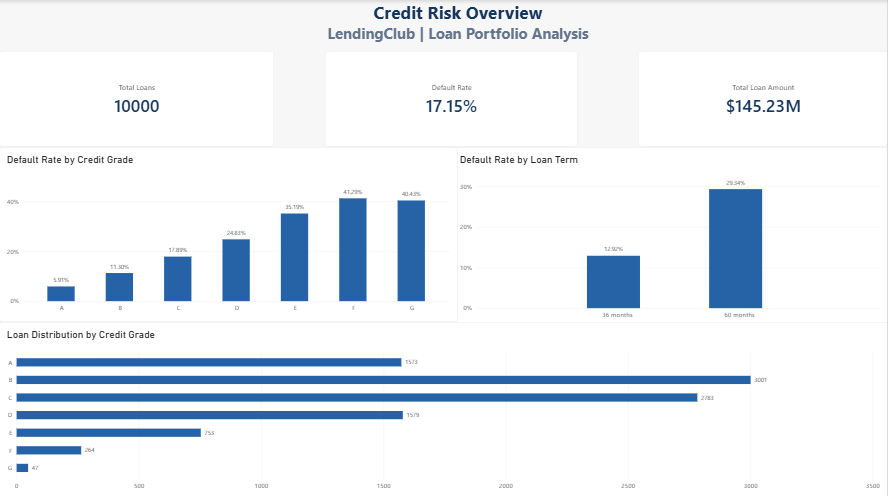

Layout of this report page (visuals, bound fields, positions):
{"tool":"powerbi","page":{"name":"Credit Risk Overview","canvas":[1920,1080],"ordinal":0},"visuals":[{"type":"cardVisual","fields":{"Data":["Analytical_Sample.Total Loans"]},"box":[0,110.2,594,207.4],"z":0},{"type":"cardVisual","fields":{"Data":["Analytical_Sample.Default Rate"]},"box":[704.2,110.2,546.5,207.4],"z":1000},{"type":"cardVisual","fields":{"Data":["Analytical_Sample.Total Loan Amount"]},"box":[1380.2,110.2,540,207.4],"z":2000},{"type":"clusteredColumnChart","title":"Default Rate by Loan Term","fields":{"Category":["Analytical_Sample.term"],"Y":["Analytical_Sample.Default Rate"]},"box":[978.5,317.5,941.8,393.1],"z":3000},{"type":"clusteredColumnChart","title":"Default Rate by Credit Grade","fields":{"Category":["Analytical_Sample.grade"],"Y":["Analytical_Sample.Default Rate"]},"box":[0,317.5,991.4,378],"z":4000},{"type":"clusteredBarChart","title":"Loan Distribution by Credit Grade","fields":{"Category":["Analytical_Sample.grade"],"Y":["Analytical_Sample.Total Loans"]},"box":[0,695.5,1920.2,384.5],"z":5000},{"type":"textbox","box":[704.2,0,574.6,136.1],"z":6000}]}

Visuals, with their boxes in screenshot pixels (x1, y1, x2, y2), scaled from the page's 1920x1080 canvas onto the 888x496 screenshot:
cardVisual - Analytical_Sample.Total Loans: 0/51/275/146
cardVisual - Analytical_Sample.Default Rate: 326/51/578/146
cardVisual - Analytical_Sample.Total Loan Amount: 638/51/887/146
"Default Rate by Loan Term" clusteredColumnChart: 453/146/887/326
"Default Rate by Credit Grade" clusteredColumnChart: 0/146/459/319
"Loan Distribution by Credit Grade" clusteredBarChart: 0/319/887/495
textbox: 326/0/591/63
